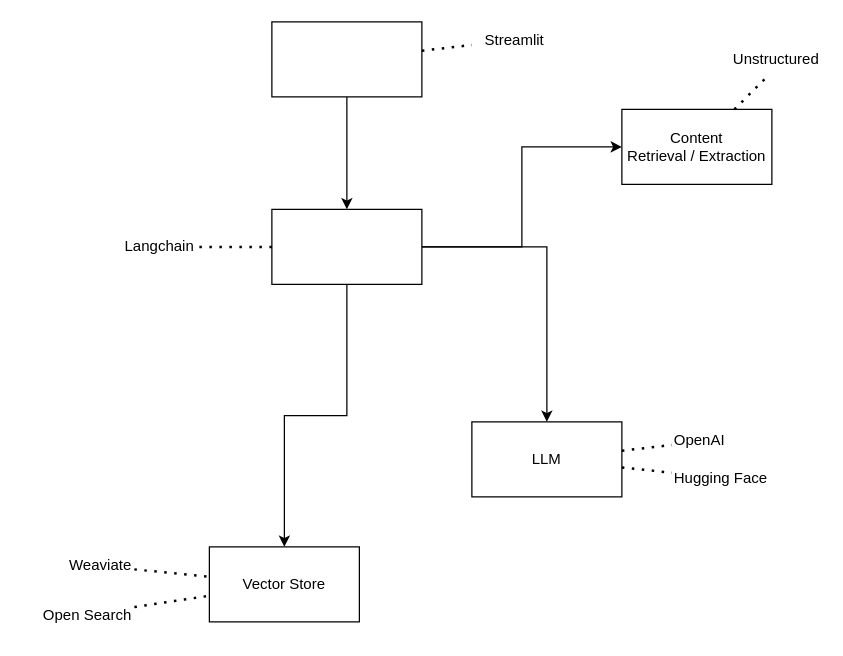
The diagram is 843 pixels wide and 656 high, and some of its shapes have lost their labels. Each missing label, with the centre of its shape:
"GUI" goes at [346,59].
"Pipeline" goes at [346,246].
